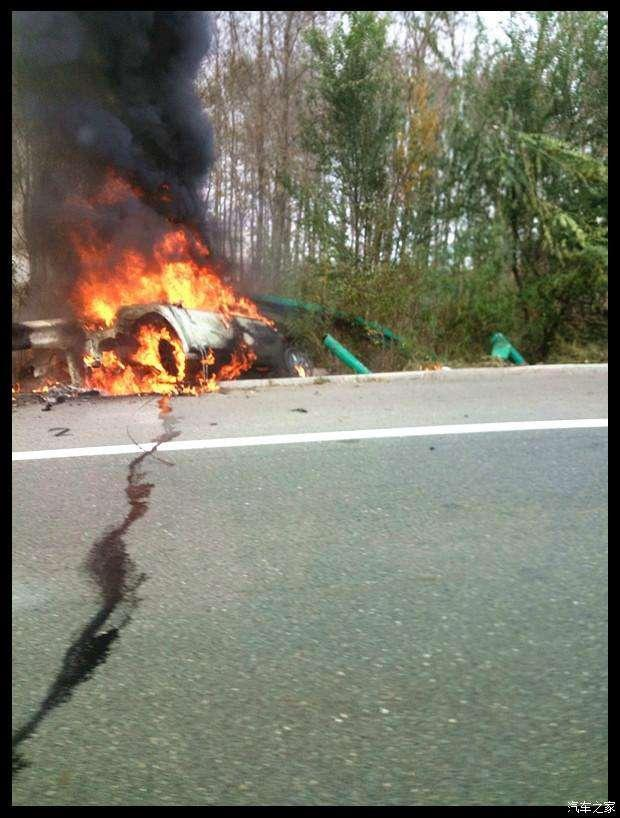fire: (40, 191, 268, 392)
